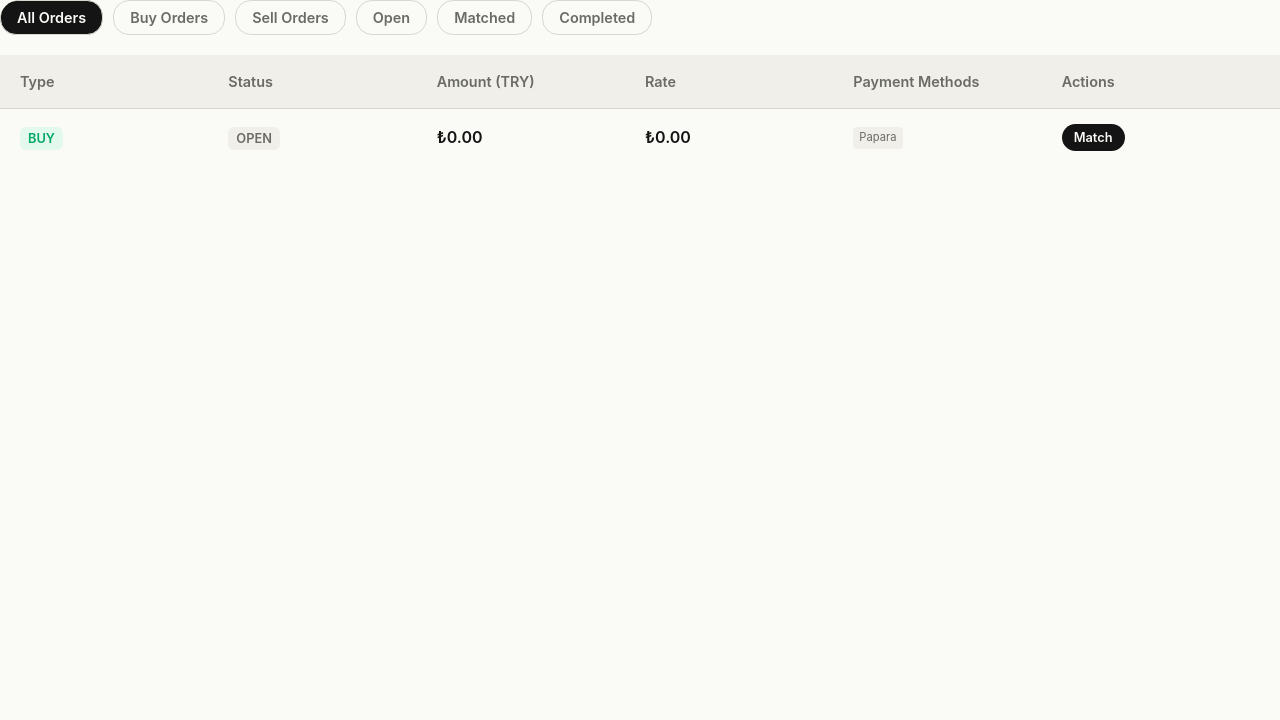
it: OrderBook › handles orders missing id and non-numeric amount/rate
Expected: the text "₺0.00" is shown 2 times, [437,127,483,147]; [645,127,691,147]
Click the button "Match" at (1093, 138), box [1062,124,1124,151]
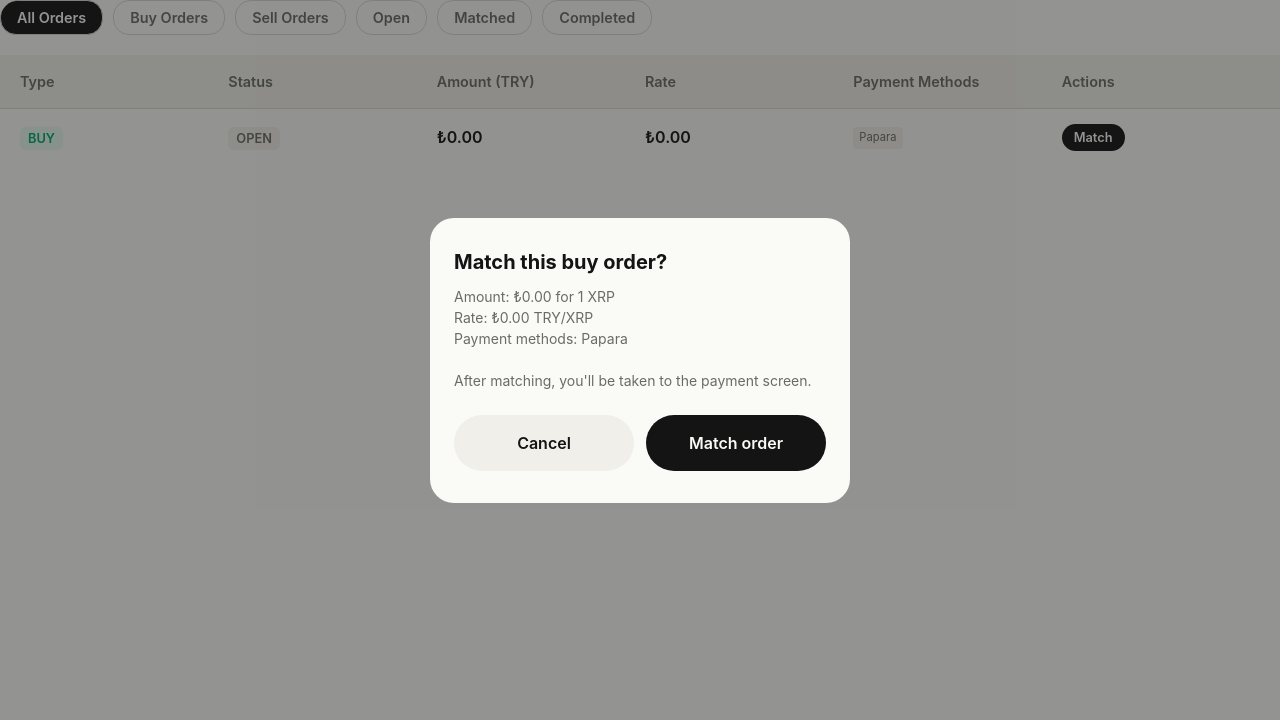
Now the text "Rate: ₺0.00" is shown, box [454,288,812,388]
